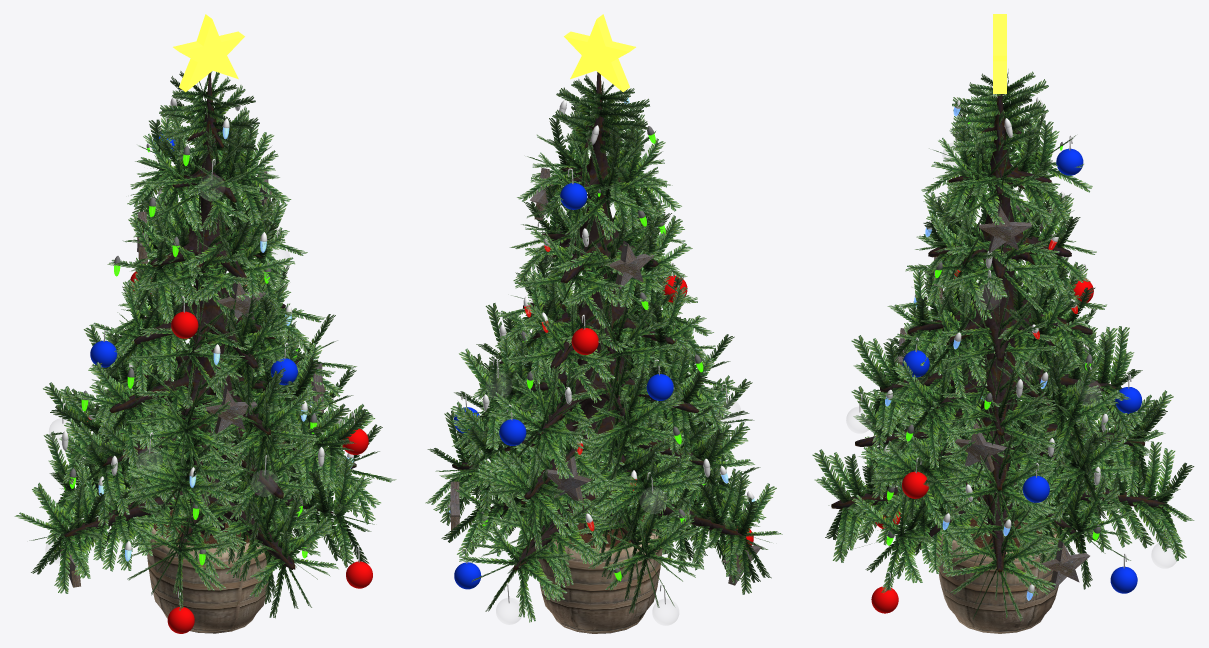
The model's file is obj_christmas_tree_decorated_50cef2.glb.
The picture shows the model from 3 angles, left to right: view 1: azimuth 30°, elevation 25°; view 2: azimuth 150°, elevation 25°; view 3: azimuth 270°, elevation 25°; orthographic projection.
Parts seen in each view (by area): view 1: obj_christmas_tree_decorated_50cef2; view 2: obj_christmas_tree_decorated_50cef2; view 3: obj_christmas_tree_decorated_50cef2.
Boxes of the visible parts, bbox=[...] form: obj_christmas_tree_decorated_50cef2: bbox=[14, 14, 396, 633]; obj_christmas_tree_decorated_50cef2: bbox=[425, 14, 782, 633]; obj_christmas_tree_decorated_50cef2: bbox=[812, 14, 1194, 633].
Bounding box in the file's own units: 1.05 × 1.8 × 1.04.
Materials: 24 (5 with a texture image).
